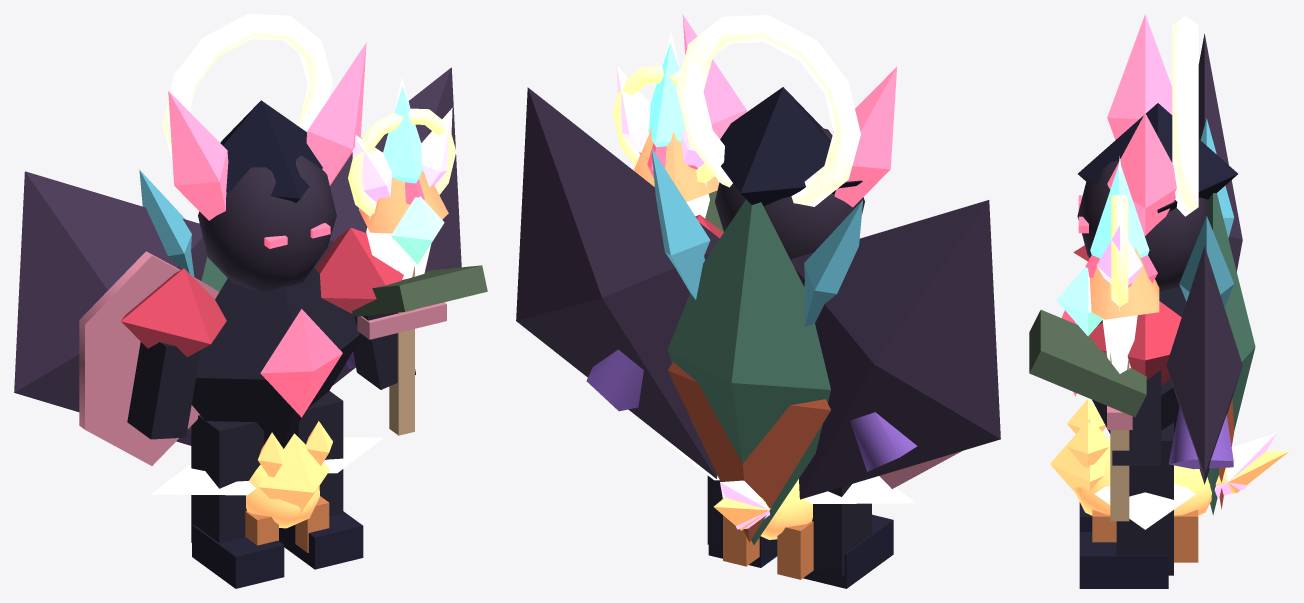
Rendered from raid.glb.
3 views of the same model, side by side, from view 1: azimuth 30°, elevation 25°; view 2: azimuth 150°, elevation 25°; view 3: azimuth 270°, elevation 25° (orthographic). The views are drawn at different scales.
Parts seen in each view (by area): view 1: boss, knight, healer, pet-0, summon, ice, thunder, bossWeapon, pet-1, fire; view 2: boss, summon, healer, fire, ice, thunder, pet-0, pet-1, knight, pet-2; view 3: boss, summon, pet-0, healer, ice, thunder, fire, bossWeapon, knight, pet-1, pet-2.
Part boxes in pixels (x1,y1,x2,y2): boss: (14,42,461,588); knight: (79,77,446,465); healer: (162,14,456,216); pet-0: (245,421,332,552); summon: (199,196,487,316); ice: (139,86,423,276); thunder: (346,108,452,368); bossWeapon: (389,179,424,435); pet-1: (151,437,383,495); fire: (358,171,448,233); boss: (516,14,1000,588); summon: (667,190,830,544); healer: (612,15,860,206); fire: (633,127,830,542); ice: (648,42,863,326); thunder: (586,65,917,471); pet-0: (714,479,813,579); pet-1: (664,441,915,503); knight: (662,32,961,488); pet-2: (720,480,770,529); boss: (1062,14,1242,588); summon: (1029,193,1255,515); pet-0: (1050,399,1288,562); healer: (1111,16,1198,306); ice: (1090,118,1234,307); thunder: (1096,225,1233,469); fire: (1089,247,1234,509); bossWeapon: (1085,255,1157,521); knight: (1102,156,1137,429); pet-1: (1095,438,1195,529); pet-2: (1214,432,1276,497).
Size of the model in its own units: 2.49 by 2.77 by 1.23.
